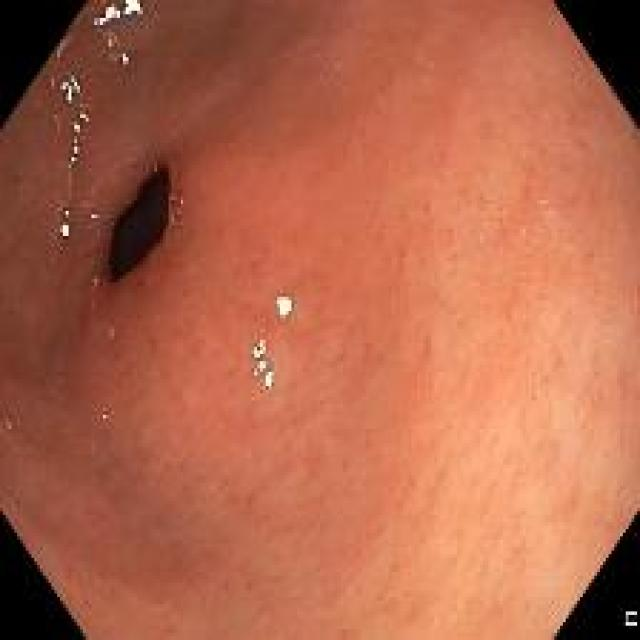bubbles: (88, 209, 103, 227), (91, 271, 101, 291), (171, 193, 184, 206), (171, 215, 181, 228)
contrast: (106, 161, 171, 284)
specularity: (93, 2, 120, 25), (59, 76, 81, 101), (250, 341, 266, 375), (274, 295, 294, 319), (66, 140, 80, 168), (123, 1, 143, 15), (265, 367, 274, 389), (60, 221, 70, 238), (72, 120, 82, 134), (118, 53, 129, 64), (62, 208, 69, 218), (78, 112, 85, 120)
